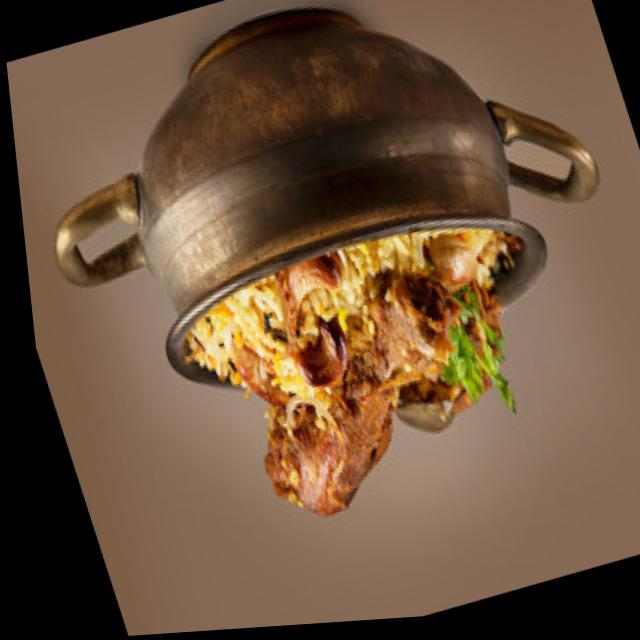BIRIYANI: (186, 222, 526, 515)
